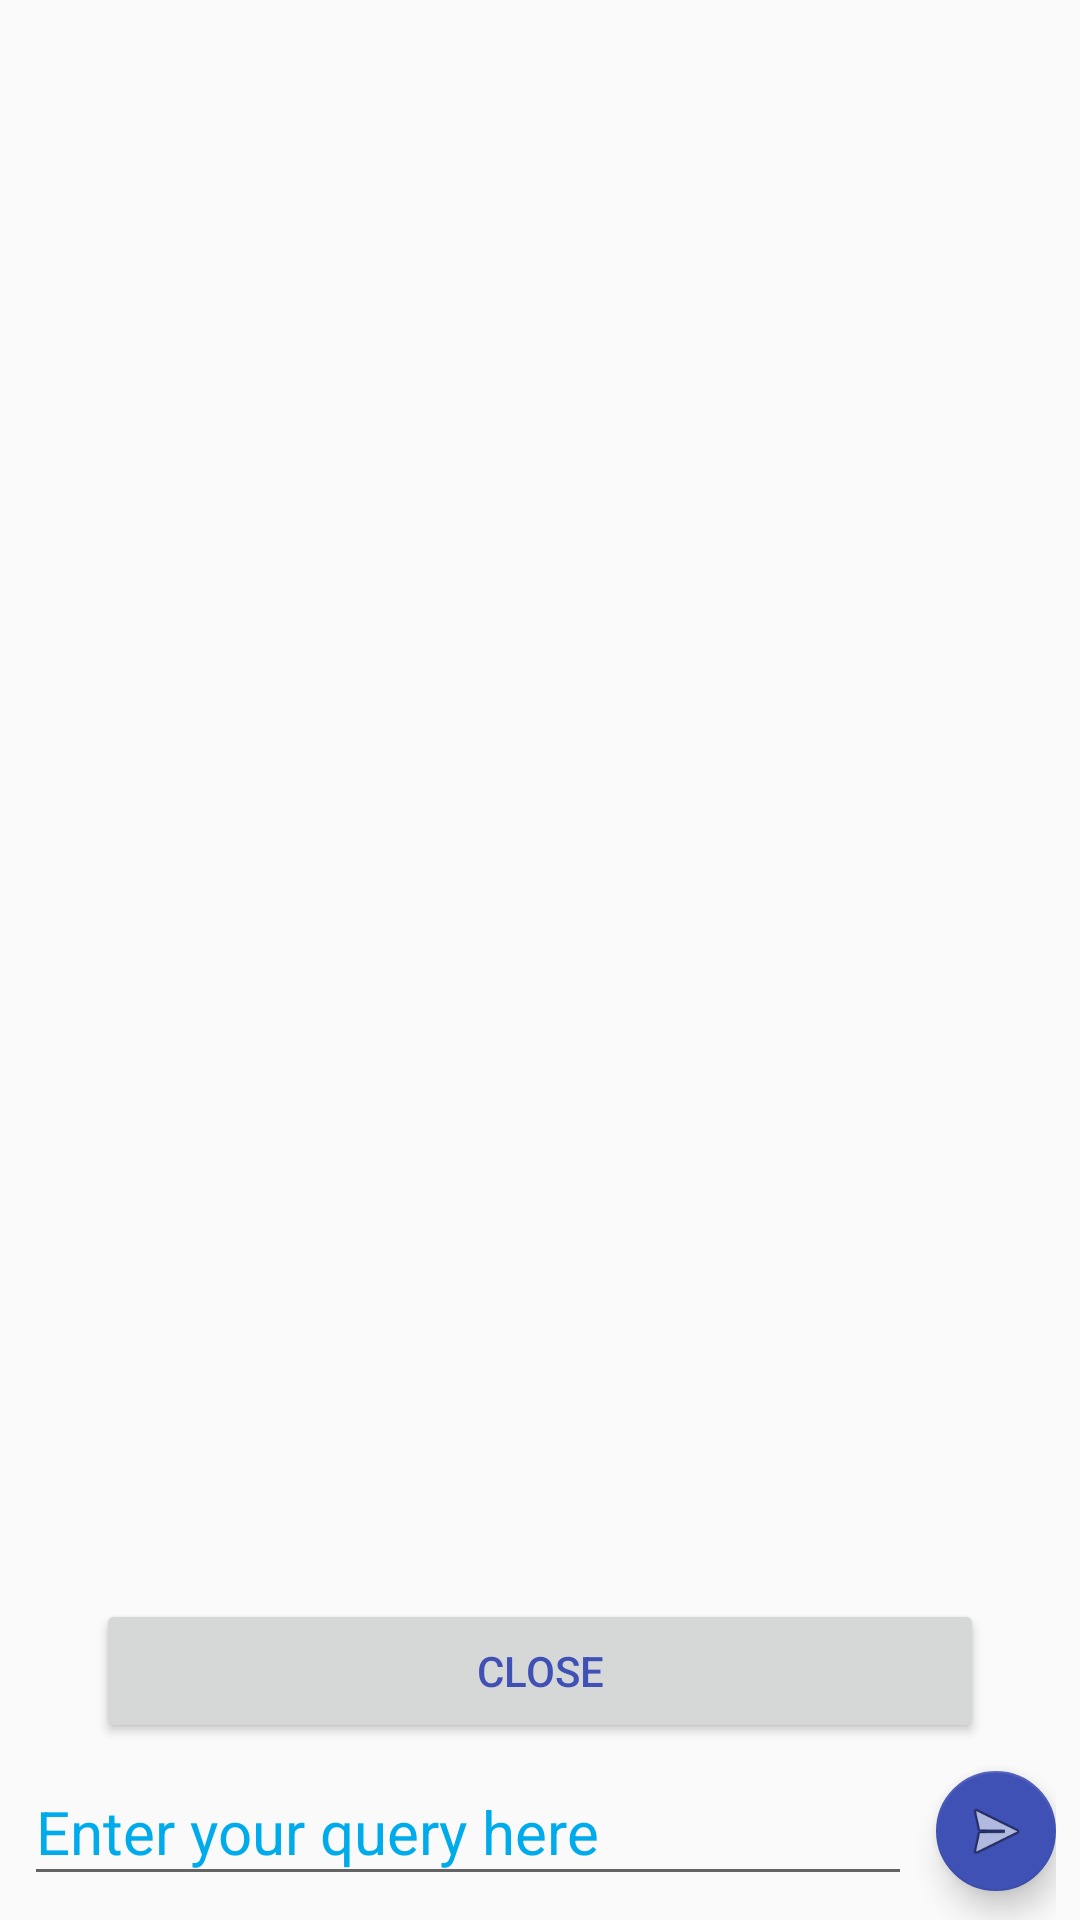

Icons on this 1080 × 1920 Android screen, each with the point to tap as (x=x, y=y):
send: (x=996, y=1831)
